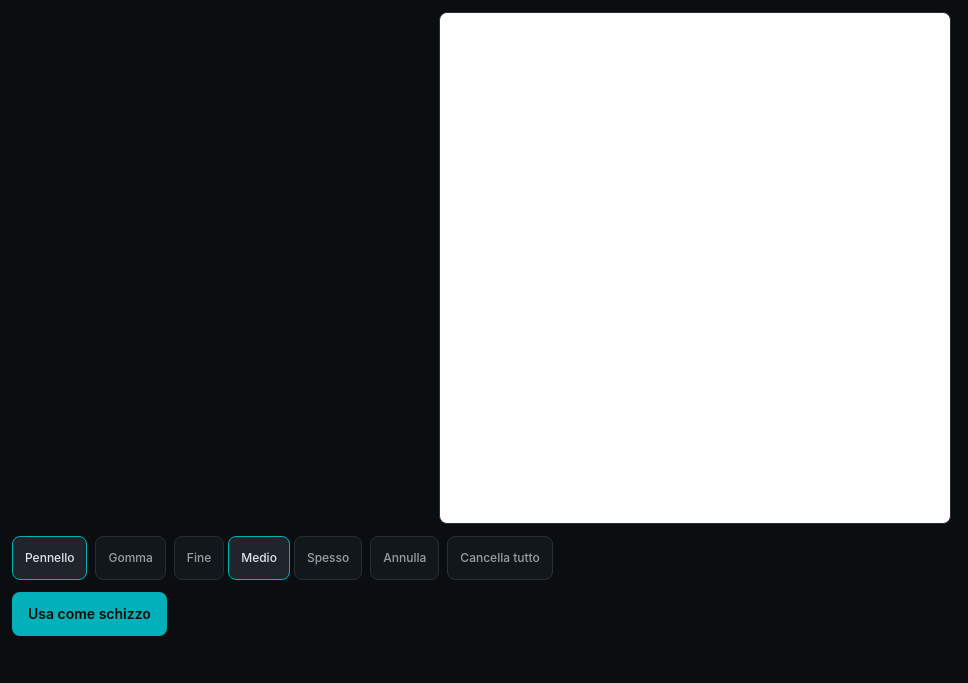
SketchPad › shows an Italian error when the upload fails
This screenshot has width=968, height=683.
Click the button "Usa come schizzo". click: (89, 614)
box: [12,592,167,636]
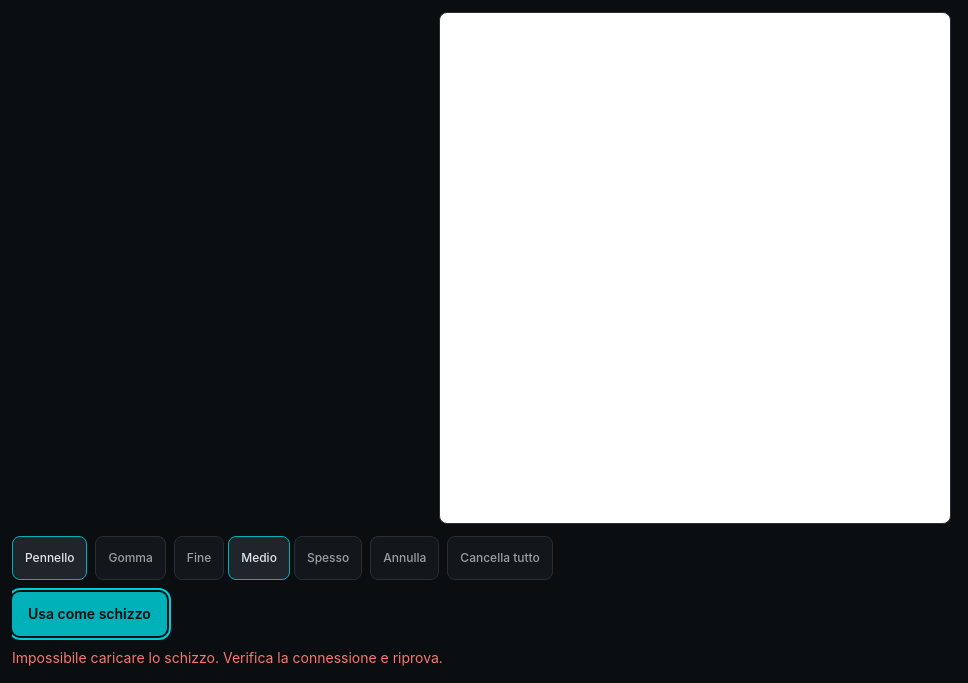
expect the message reads "Impossibile caricare lo schizzo. Verifica la connessione e riprova.": met, box [12,649,443,666]
